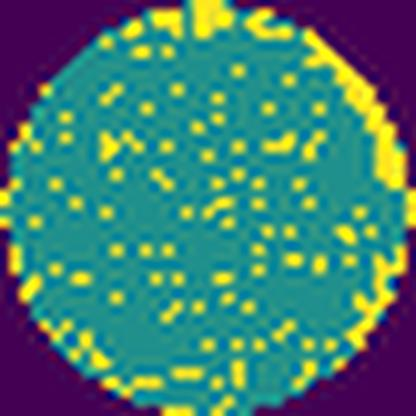Edge-Loc: (301, 25, 416, 233), (346, 242, 412, 351), (244, 2, 296, 46), (192, 0, 238, 41)
